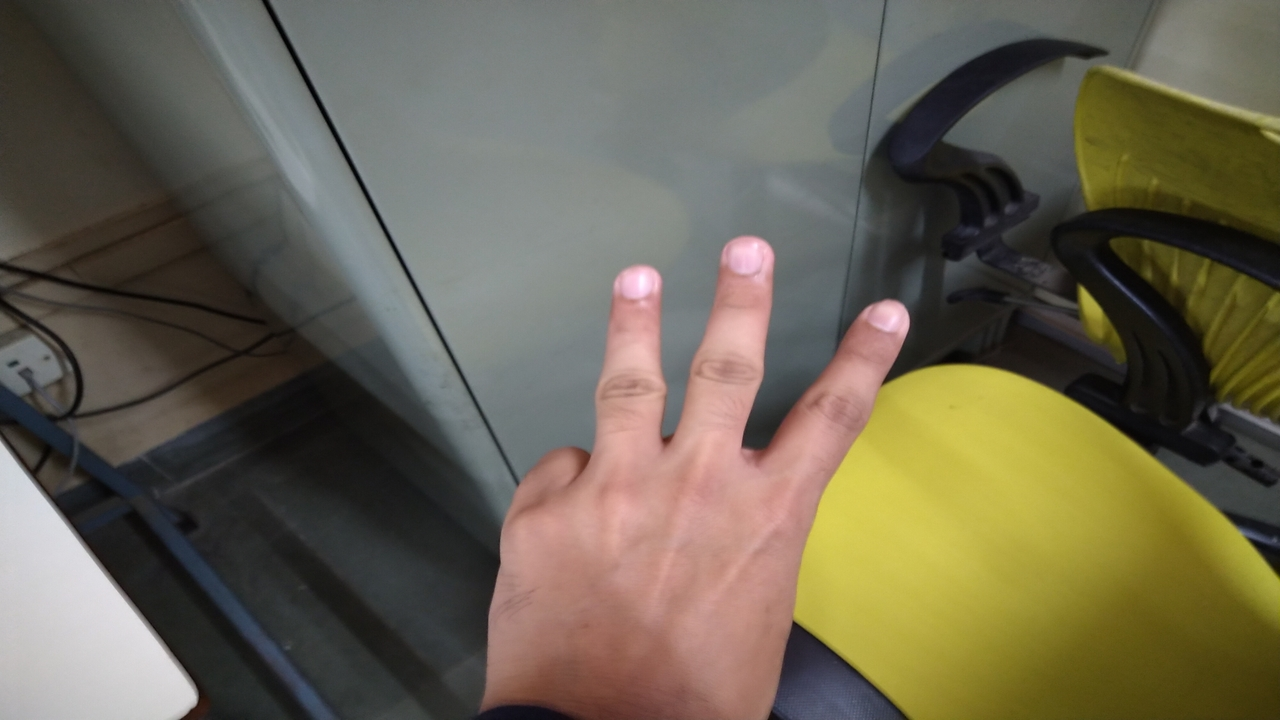fingertip: (710, 228, 780, 294), (850, 290, 920, 352), (604, 256, 666, 316)
